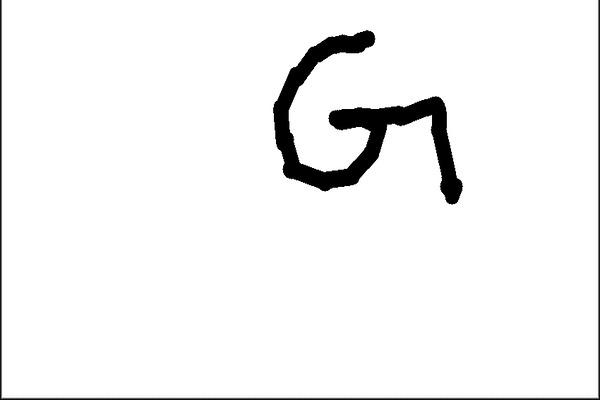G: (268, 23, 467, 210)
